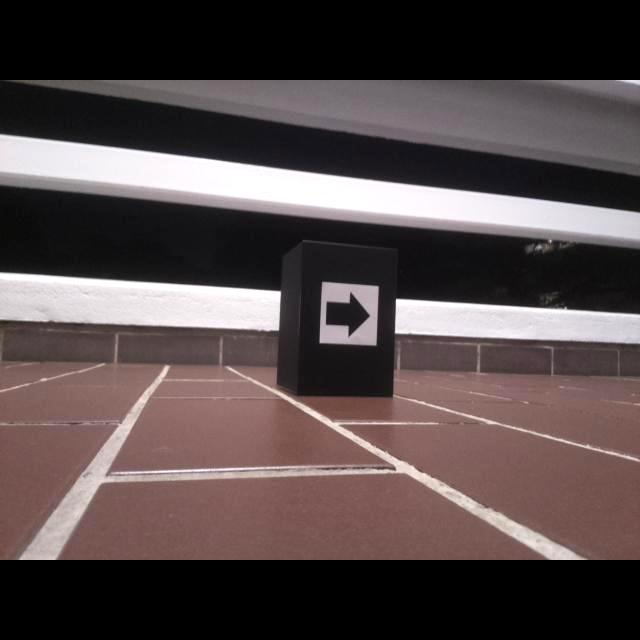RIGHT: (326, 291, 370, 336)
